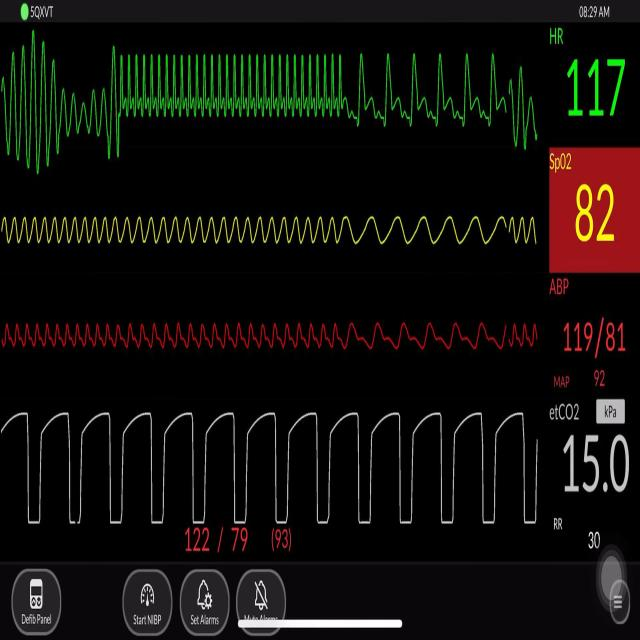danger: (120, 43, 347, 126), (0, 27, 69, 184), (75, 65, 110, 153)
